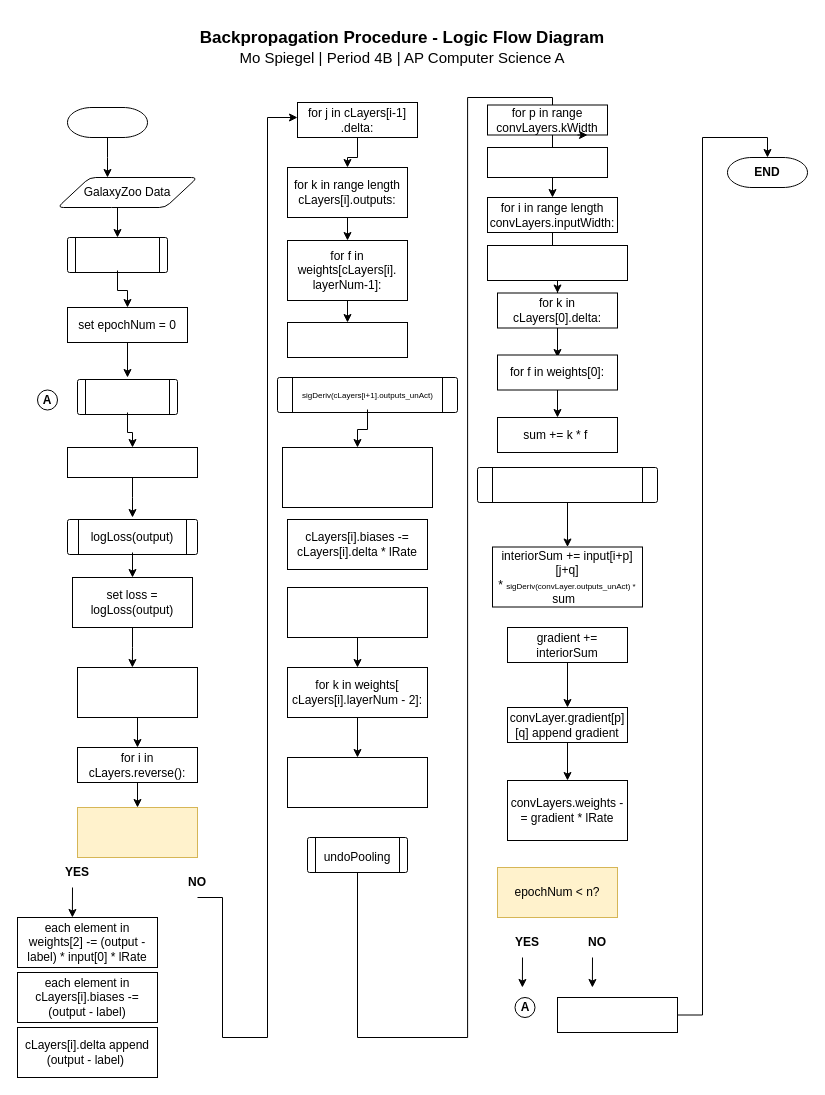
The diagram is 825 pixels wide and 1095 high, and some of its shapes have lost their labels. Here are the shapes that lost their labels. From the top down, the box of each, then its label:
(66, 106, 148, 138): START
(486, 146, 608, 178): for q in range convLayers.kHeight
(66, 236, 168, 272): readData()
(486, 244, 628, 280): for j in range length convLayers.inputHeight:
(286, 322, 408, 358): sum += j * f
(76, 378, 178, 414): runCNN()
(66, 446, 198, 478): set output = runCNN()
(282, 446, 432, 508): cLayers[i].delta append sigDeriv( cLayers[i+1]. outputs_unAct) * sum
(476, 466, 658, 502): sigDeriv(convLayer.outputs_unAct)
(286, 586, 428, 638): for j in cLayers[i+1].outputs:
(76, 666, 198, 718): logLoss(runCNN)
(286, 756, 428, 808): weights[ cLayers[i].layerNum - 2] [k] -= j * sum * lRate
(76, 806, 198, 858): cLayers[i].layerNum = 4?
(556, 996, 678, 1032): Output loss, "Training Complete"
